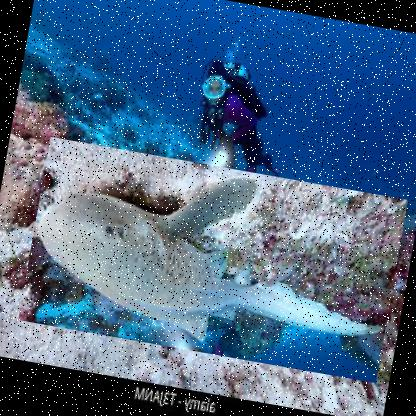zebra_shark: (16, 136, 408, 384)
